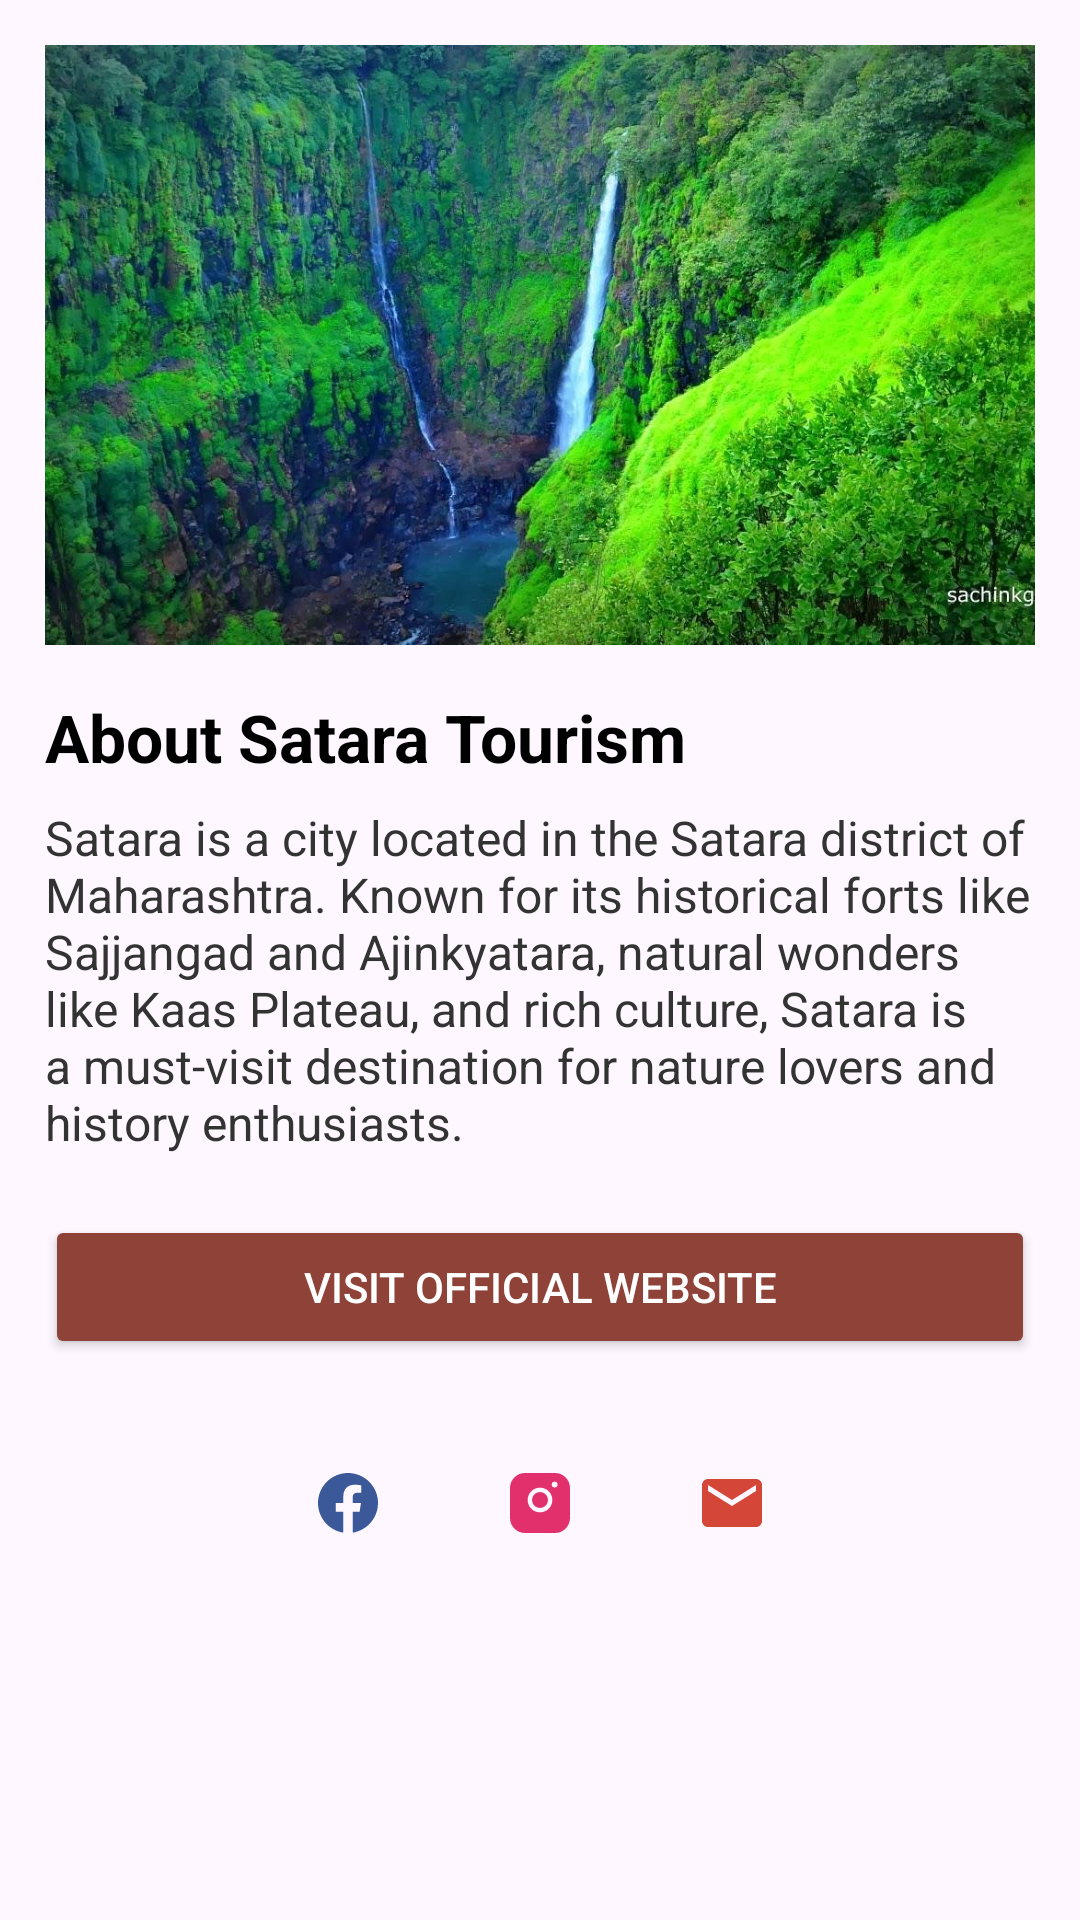

Locate icon controls on the screen. Image size 1080x1920, boxes as bbox=[x1, y1, x2, y2].
Email: bbox=[702, 1479, 762, 1527]
